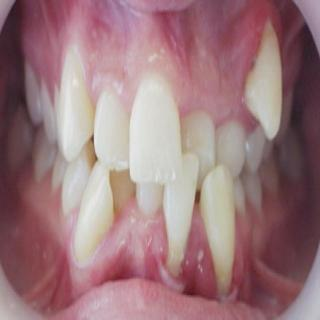calculus: (246, 6, 283, 54)
maligned: (232, 12, 294, 135), (198, 171, 248, 298), (128, 68, 183, 182), (52, 42, 98, 158), (71, 167, 122, 270), (160, 160, 198, 282), (104, 157, 138, 214)
